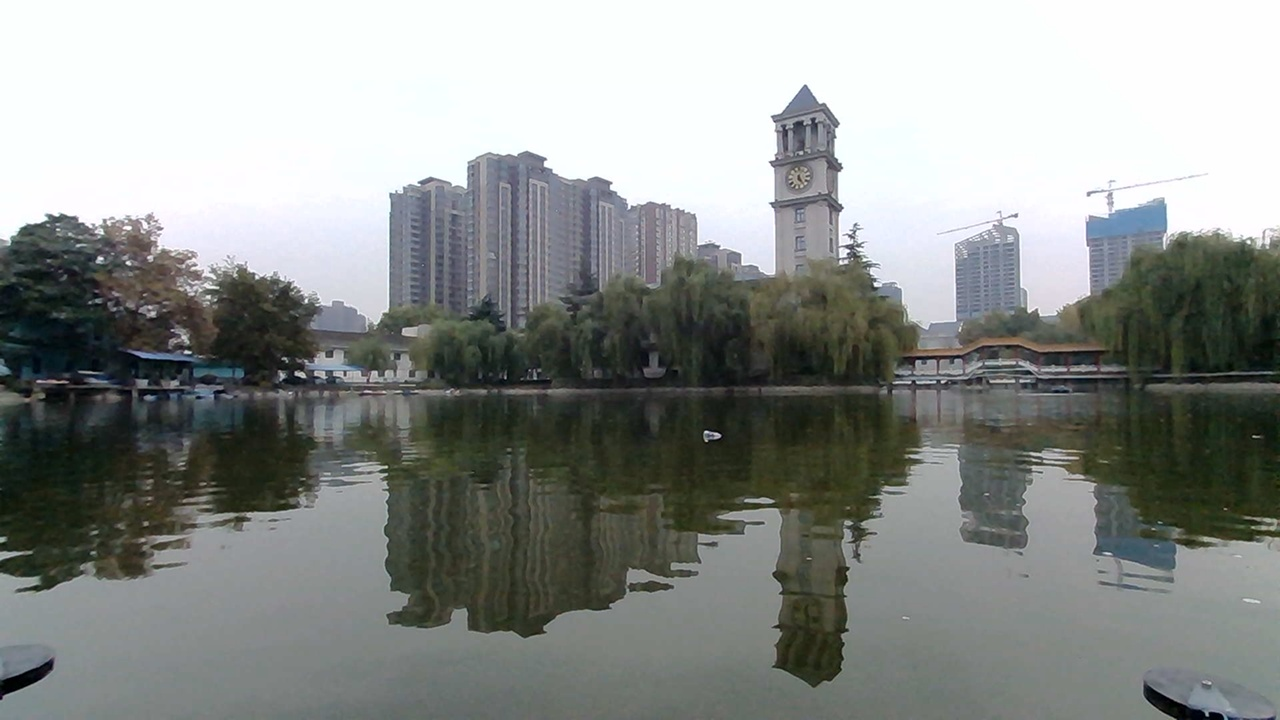bottle: (696, 420, 735, 450)
